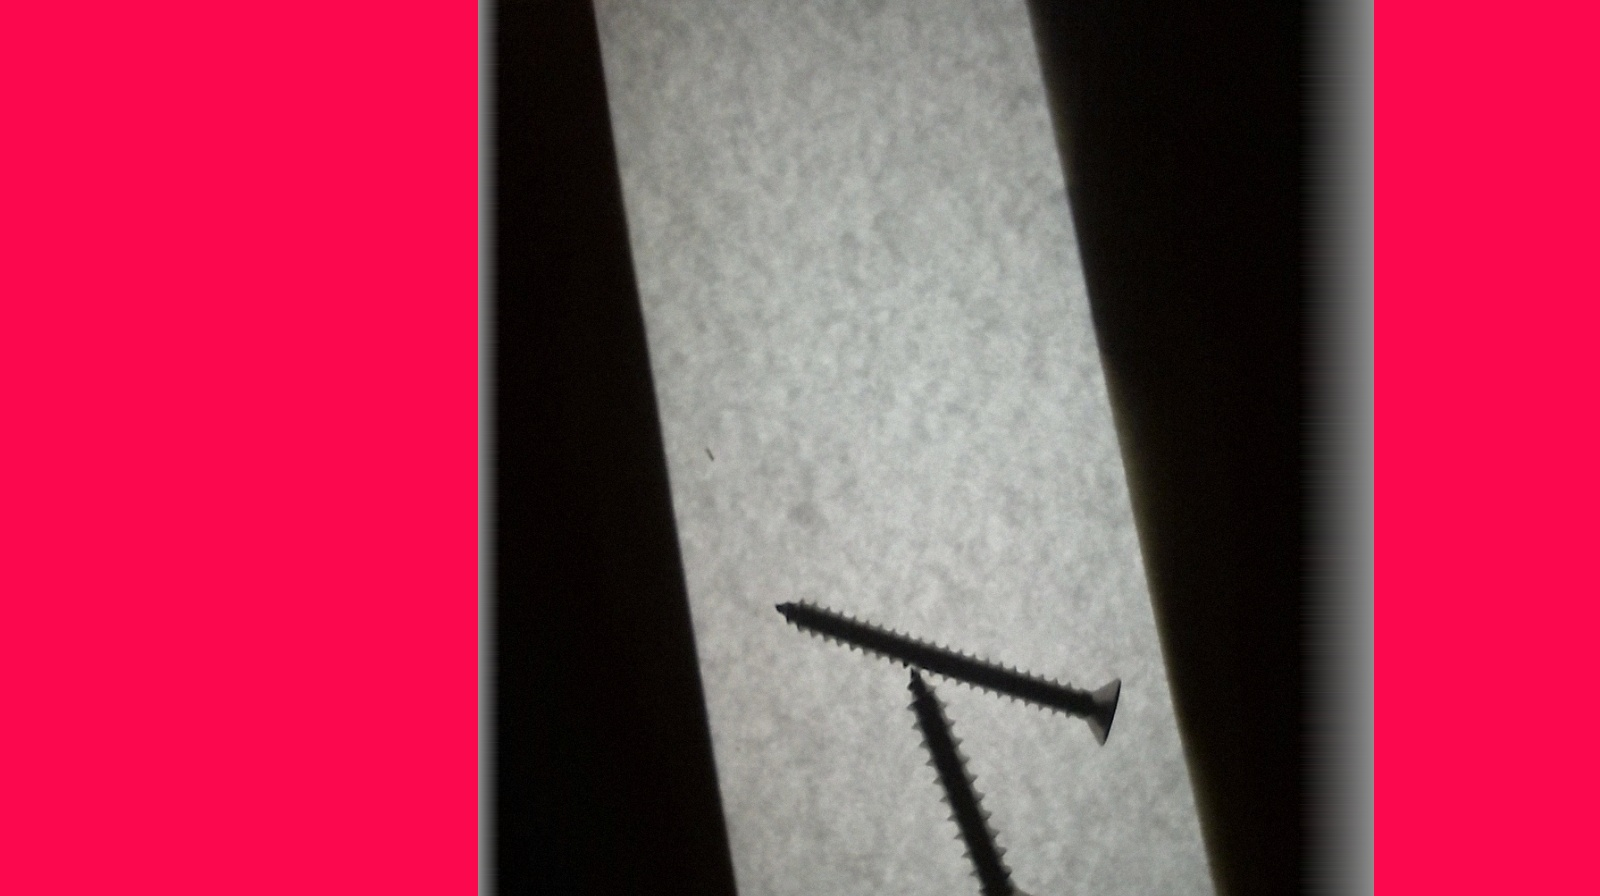S001: (904, 659, 1052, 895)
S002: (764, 585, 1133, 753)
